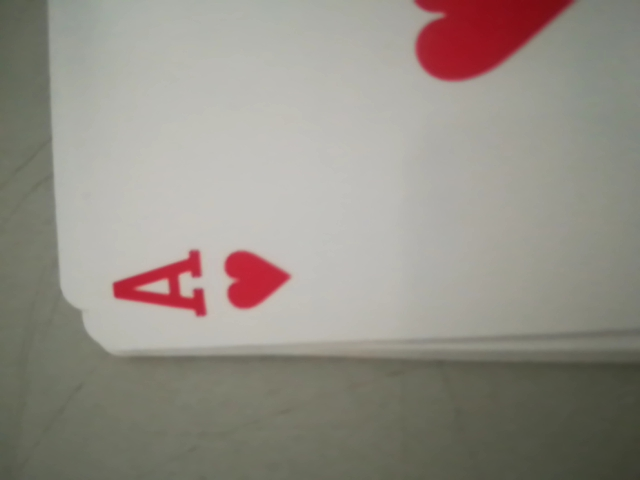hx a: (102, 208, 307, 346)
